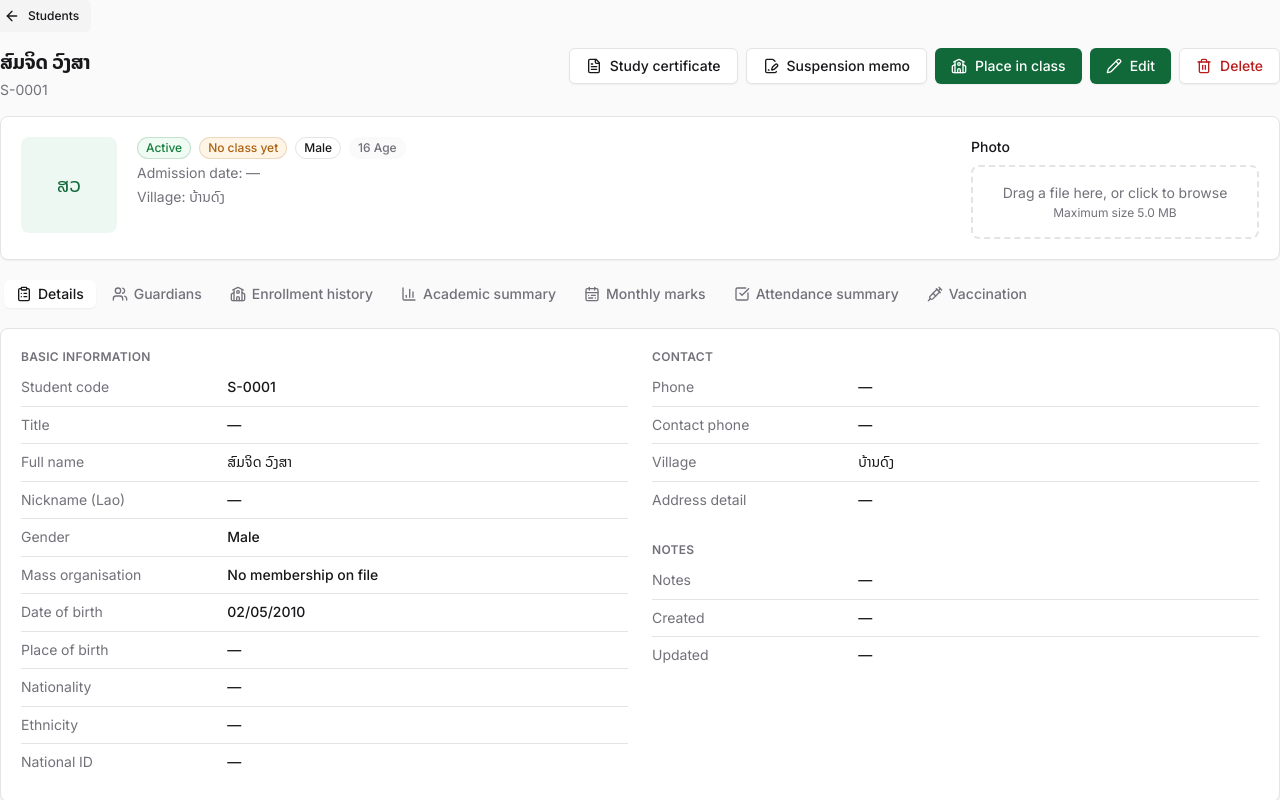
renders the detail page and every tab, including the guardians editor
The width and height of the screenshot is (1280, 800).
Check: the 1st text "S-0001" is shown, box [0,78,48,101]
Click the tab "Guardians": (157, 294) [100,280,214,308]
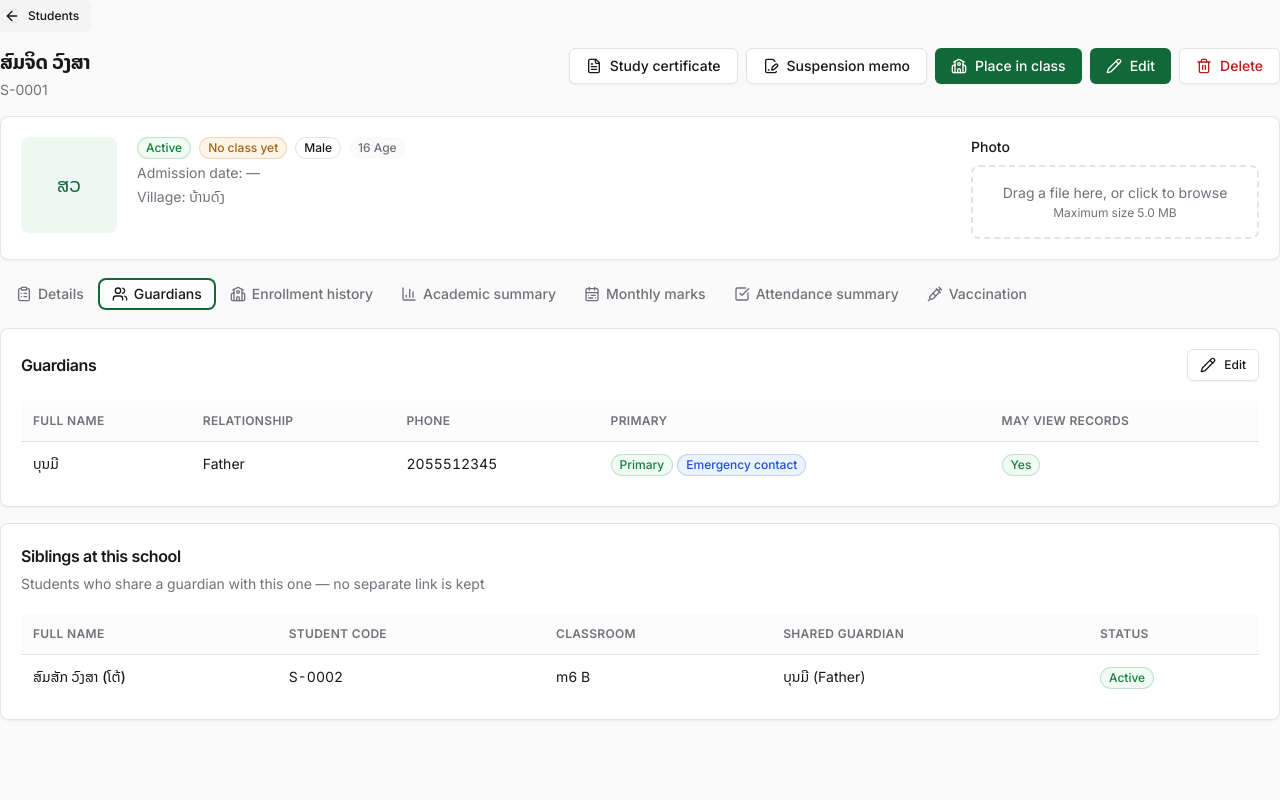
Click the tab "Academic summary": (479, 294) [389,280,568,308]
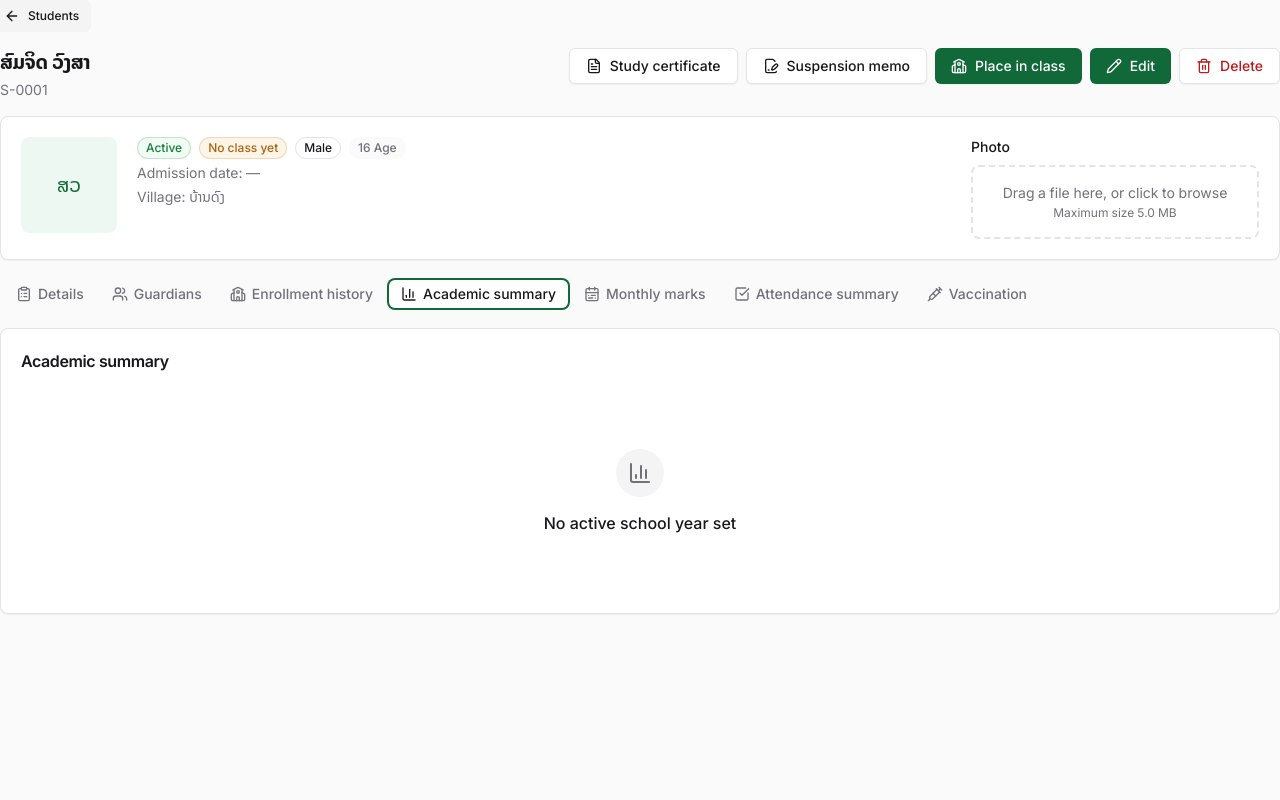
Click the tab "Attendance summary": (816, 294) [722,280,911,308]
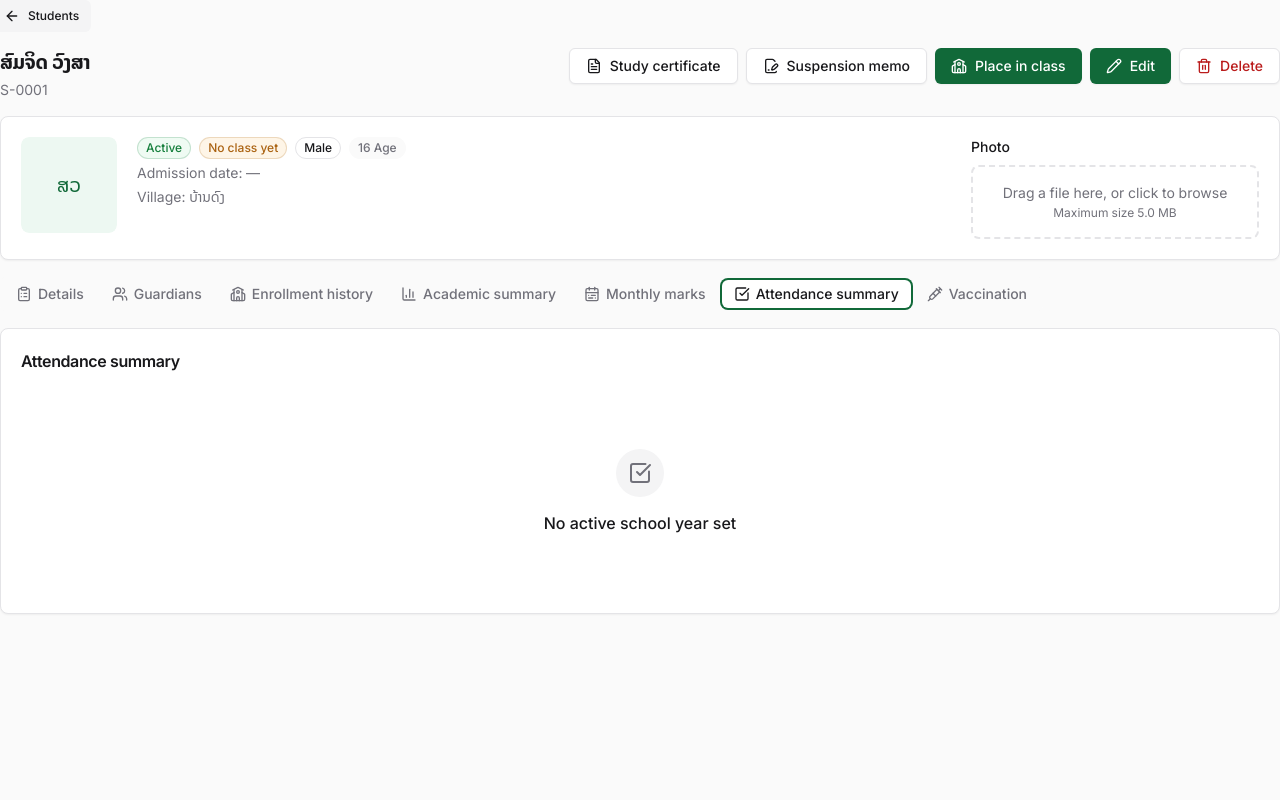
Click the tab "Guardians": (157, 294) [100,280,214,308]
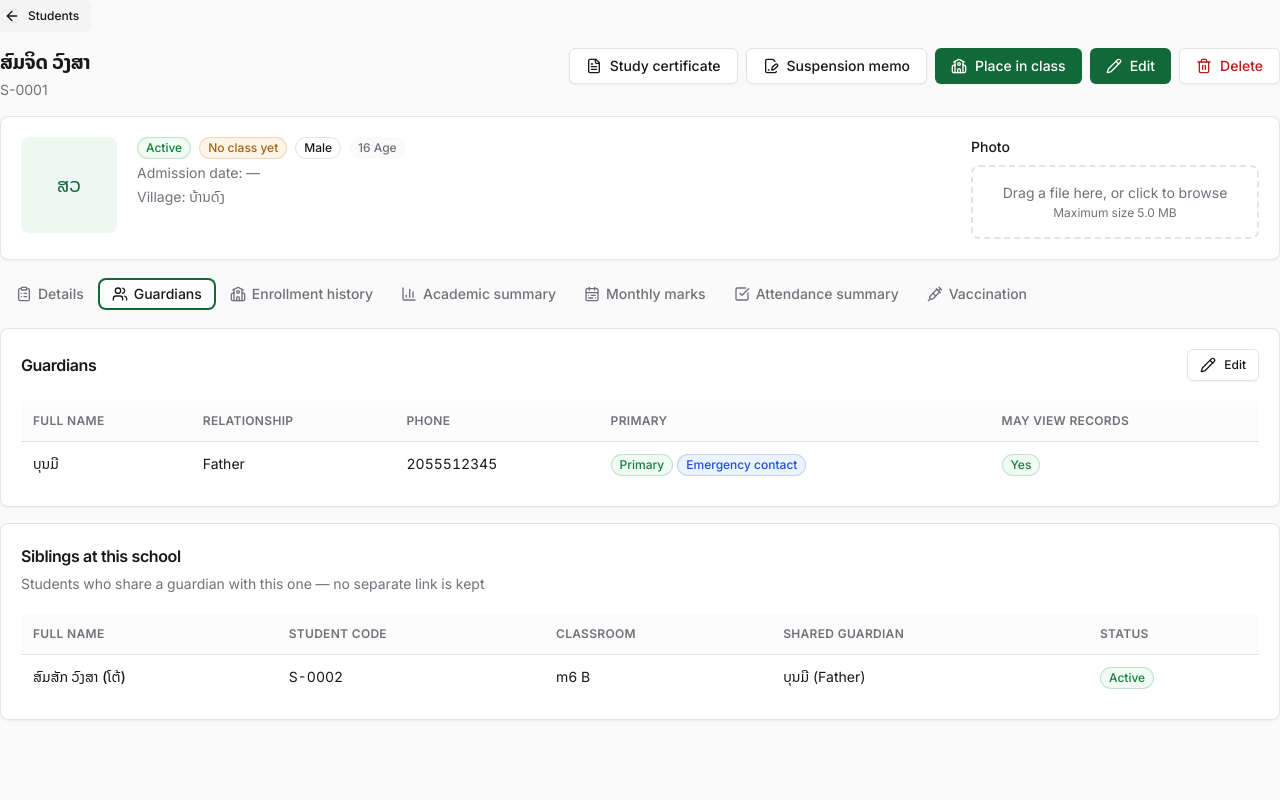
Click the 2nd button "Edit": (1223, 365) [1187,349,1259,381]
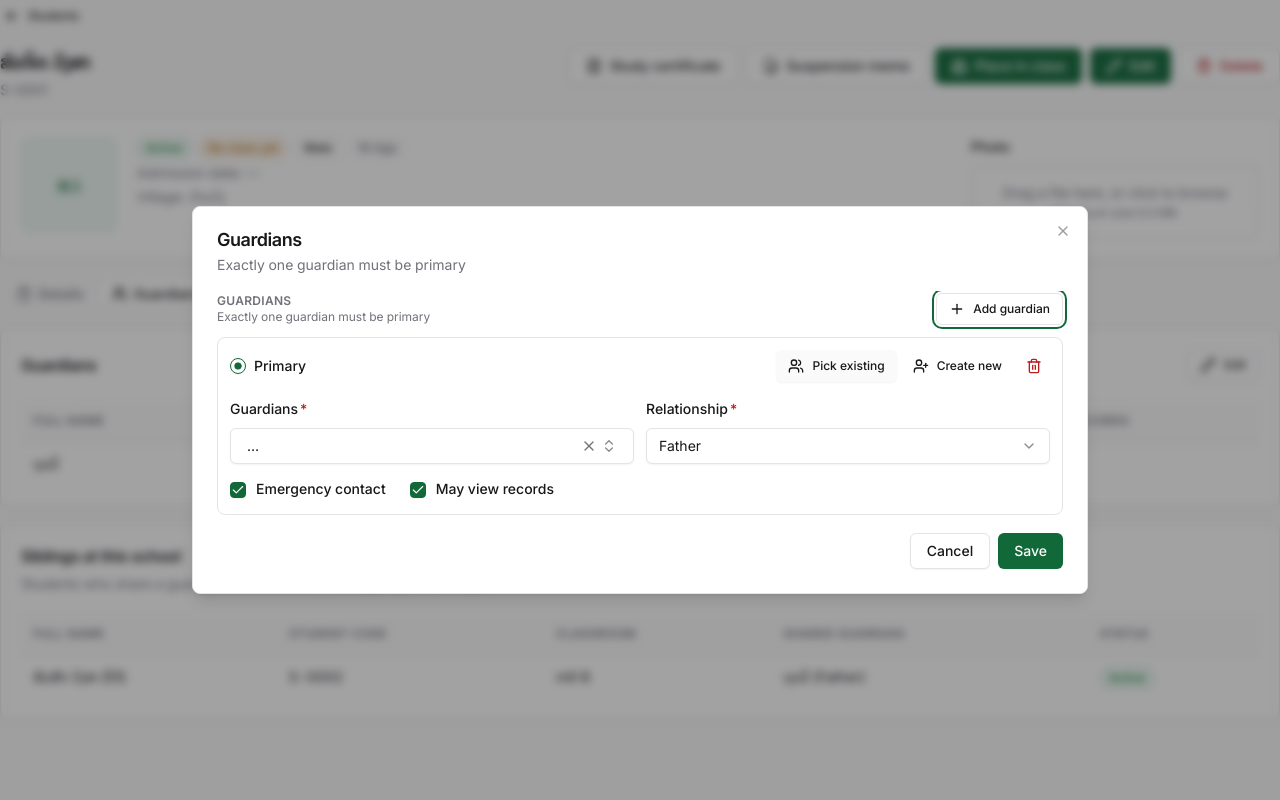
Check: the dialog is shown, box [192,206,1088,594]
